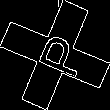P_NW: (25, 28, 85, 82)
